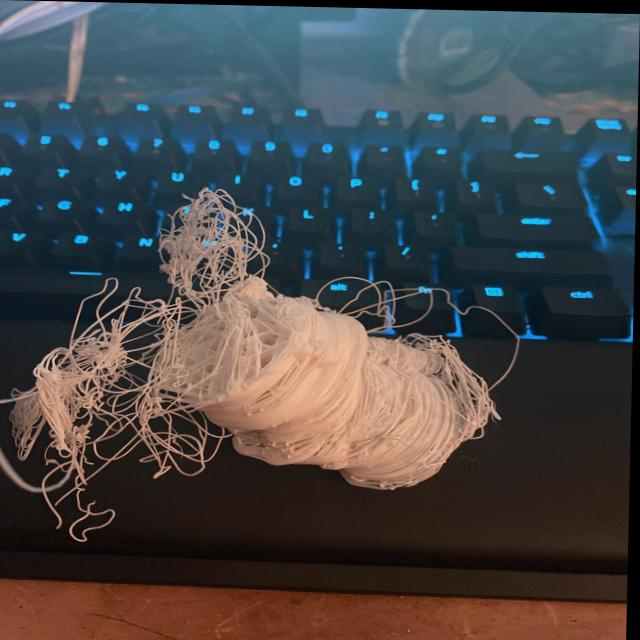spaghetti: (5, 198, 564, 543)
